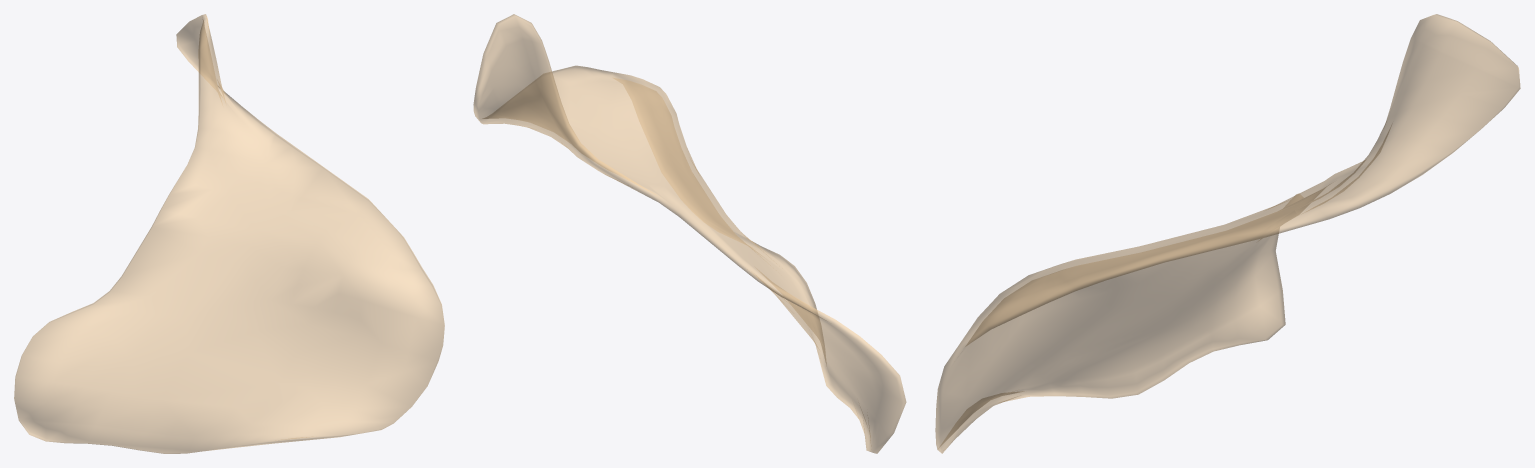
The model's file is visceras-lesser-omentum.glb.
3 views of the same model, side by side, from view 1: azimuth 30°, elevation 25°; view 2: azimuth 150°, elevation 25°; view 3: azimuth 270°, elevation 25° (orthographic). The views are drawn at different scales.
Visible parts, largest first — view 1: Lesser omentum; view 2: Lesser omentum; view 3: Lesser omentum.
Boxes of the visible parts, x1,y1,x2,y2 form: Lesser omentum: (14, 14, 444, 453); Lesser omentum: (473, 14, 906, 453); Lesser omentum: (935, 14, 1520, 453).
Size of the model in its own units: 0.06 by 0.058 by 0.0637.
